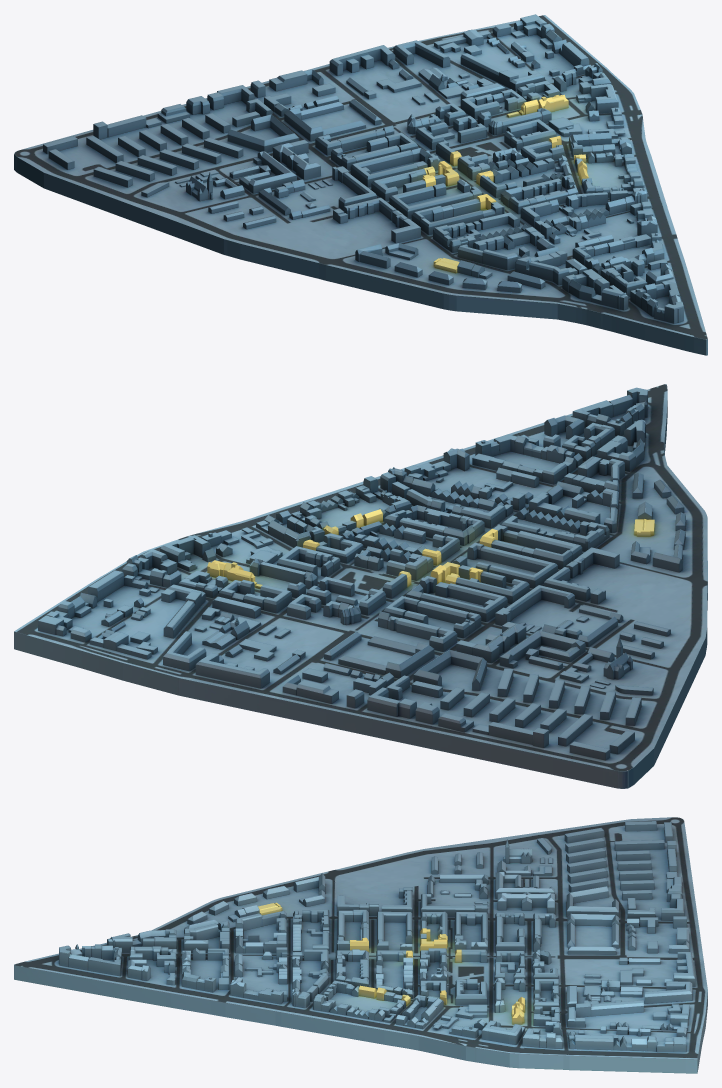
The model's file is Goetheviertel_250812_with-textures_webp.glb.
3 renders of one model, top to bottom at view 1: azimuth 30°, elevation 25°; view 2: azimuth 150°, elevation 25°; view 3: azimuth 270°, elevation 25°, orthographic. The views are drawn at different scales.
Visible parts, largest first — view 1: Buildings, Terrain; view 2: Buildings, Terrain; view 3: Terrain, Buildings.
Boxes of the visible parts, x1,y1,x2,y2 form: Buildings: [43, 14, 683, 323]; Terrain: [14, 15, 707, 355]; Buildings: [38, 387, 685, 760]; Terrain: [14, 384, 707, 788]; Terrain: [14, 817, 707, 1073]; Buildings: [59, 821, 695, 1052].
Bounding box in the file's own units: 906 × 67.5 × 1099.
Materials: 2 (2 with a texture image).
